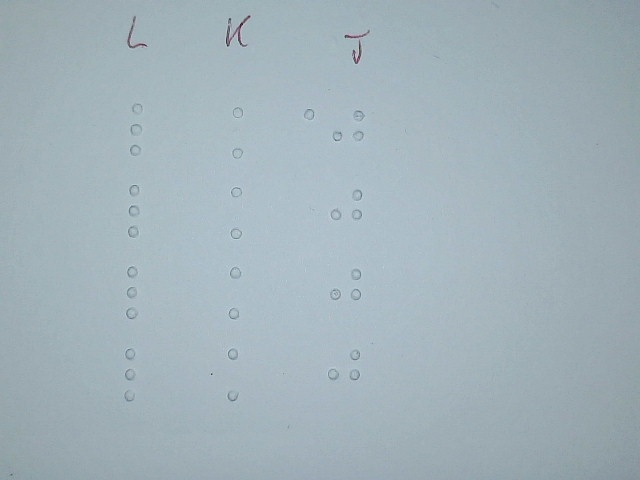J: (329, 100, 369, 161), (328, 181, 365, 242), (328, 260, 365, 321), (326, 340, 363, 401)
K: (224, 101, 265, 162), (223, 182, 264, 243), (220, 264, 261, 325), (220, 344, 261, 405)
L: (123, 99, 166, 159), (120, 181, 163, 241), (119, 262, 162, 322), (116, 345, 159, 405)
